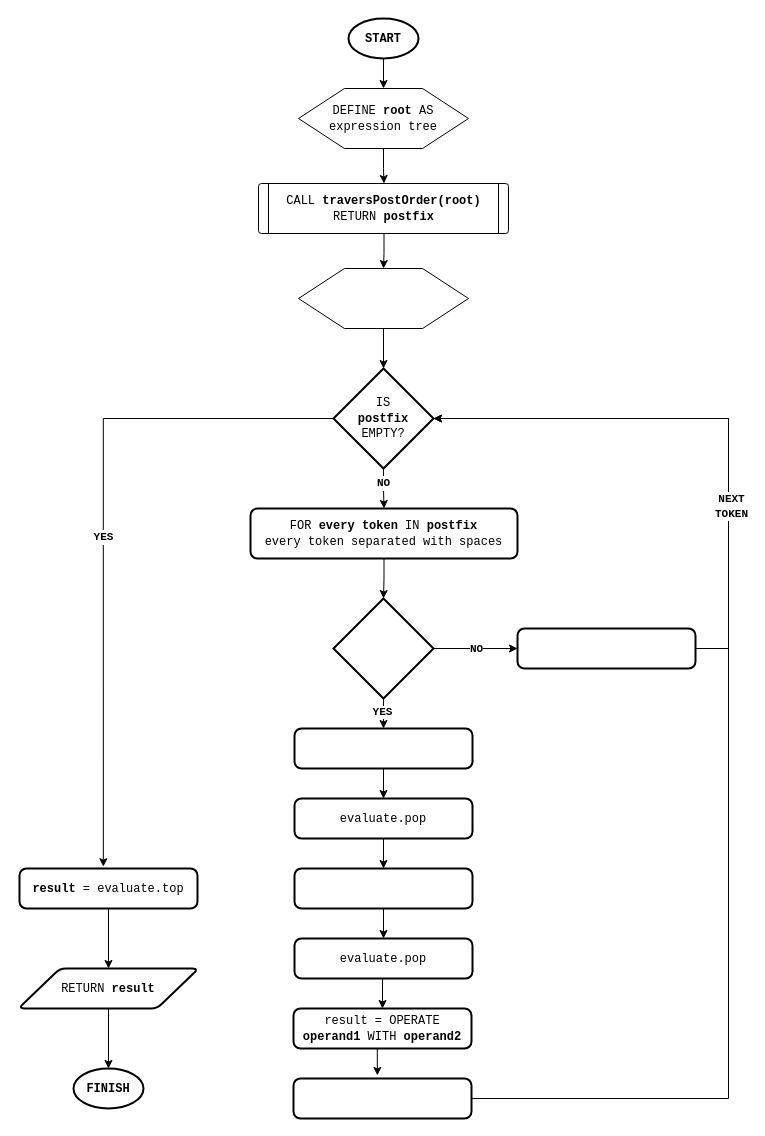
Some shapes in this 765 by 1136 pixel diagram are drawn without their labels. The shapes that lost their labels are listed below. From the top down, each one's box as (x1, y1, x2, y2) in pixels, then its label:
(298, 268, 468, 328): DEFINE evaluate AS stack
(332, 597, 434, 699): IS token OPERATOR?
(516, 627, 696, 669): PUSH token TO evaluate
(293, 727, 473, 769): operand1 = evaluate.top
(293, 867, 473, 909): operand2 = evaluate.top
(292, 1077, 472, 1119): PUSH result TO evaluate
